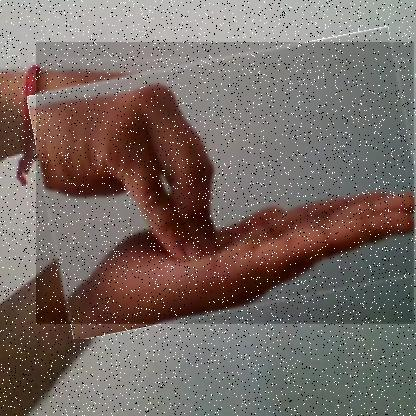Z: (36, 42, 415, 325)
